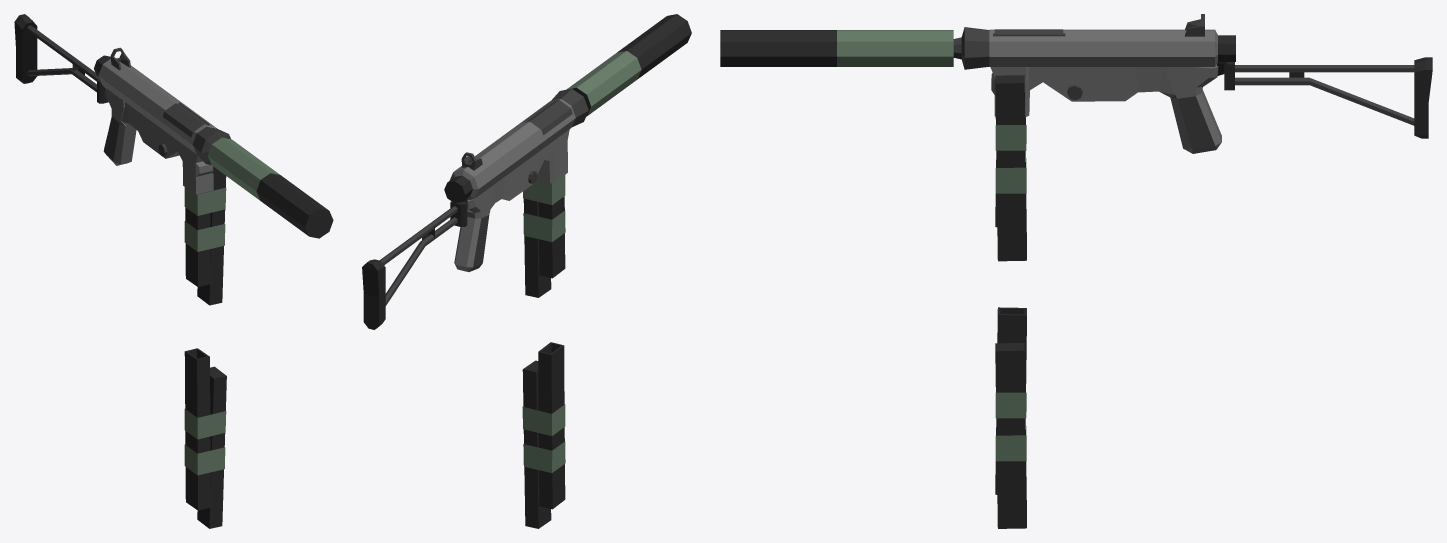
The model's file is GreaseGunS_Gun.glb.
The picture shows the model from 3 angles, left to right: view 1: azimuth 30°, elevation 25°; view 2: azimuth 150°, elevation 25°; view 3: azimuth 270°, elevation 25°; orthographic projection. The views are drawn at different scales.
Parts seen in each view (by area): view 1: GreaseGunLowPoly, GreasegunMag; view 2: GreaseGunLowPoly, GreasegunMag; view 3: GreaseGunLowPoly, GreasegunMag.
Boxes of the visible parts, x1,y1,x2,y2 form: GreaseGunLowPoly: (14,14,333,305); GreasegunMag: (184,348,226,528); GreaseGunLowPoly: (362,14,691,329); GreasegunMag: (522,342,565,528); GreaseGunLowPoly: (720,14,1432,261); GreasegunMag: (995,307,1026,528).
Size of the model in its own units: 0.0874 by 0.9 by 1.16.
1 material, 1 textured.
